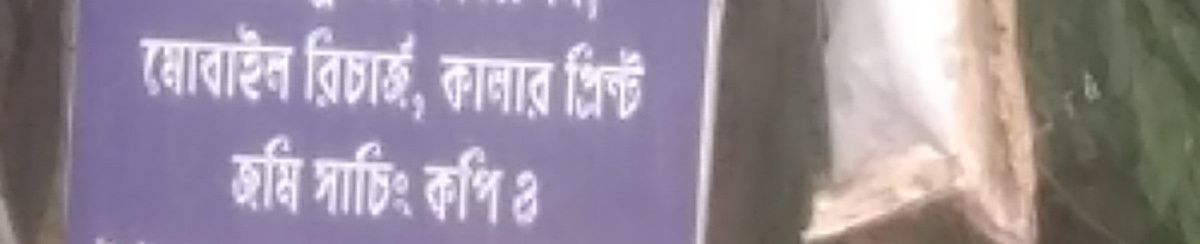text: (305, 23, 320, 127), (321, 23, 336, 127), (337, 23, 352, 127), (353, 23, 368, 127), (369, 23, 384, 127), (385, 23, 400, 127), (401, 23, 416, 127), (417, 23, 432, 127), (401, 133, 417, 225), (321, 133, 336, 225), (337, 133, 352, 225), (353, 133, 368, 225), (369, 133, 384, 225), (385, 133, 400, 225), (433, 141, 448, 230), (449, 141, 464, 230), (465, 141, 480, 230), (481, 141, 496, 230), (145, 19, 160, 107), (161, 19, 176, 107), (177, 19, 192, 107), (193, 19, 208, 107), (209, 19, 224, 107), (225, 19, 240, 107), (241, 19, 256, 107), (257, 19, 272, 107), (273, 19, 288, 107), (577, 38, 592, 125), (593, 38, 608, 125), (609, 38, 624, 125), (625, 38, 640, 125), (241, 132, 256, 219), (257, 132, 272, 219), (273, 132, 288, 219), (289, 132, 304, 219), (226, 132, 240, 219), (563, 38, 576, 125), (420, 141, 432, 230), (497, 141, 509, 230), (449, 52, 464, 123), (465, 52, 480, 123), (481, 52, 496, 123), (497, 52, 512, 123), (513, 52, 528, 123), (529, 52, 544, 123), (513, 168, 528, 234), (134, 19, 144, 107), (289, 19, 299, 107), (641, 38, 651, 125), (529, 168, 542, 234), (545, 52, 557, 123), (438, 52, 448, 123), (313, 133, 320, 225), (305, 132, 309, 219), (545, 2, 560, 23), (561, 2, 576, 23), (577, 2, 592, 23), (305, 2, 320, 16), (321, 2, 336, 16), (302, 23, 304, 127), (593, 2, 601, 23), (97, 235, 113, 244), (497, 1, 512, 8), (433, 23, 434, 127), (513, 1, 525, 8), (299, 2, 304, 16), (541, 2, 544, 23), (337, 2, 341, 16), (91, 235, 96, 244), (493, 1, 496, 8)
